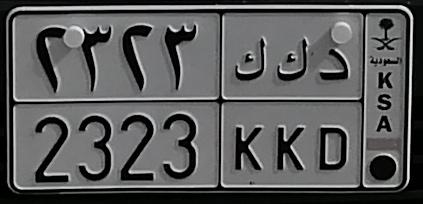2: (117, 22, 158, 182), (33, 24, 70, 185)
3: (75, 23, 116, 182), (161, 22, 202, 181)
D: (317, 45, 352, 173)
K: (233, 36, 269, 172), (275, 35, 311, 171)
